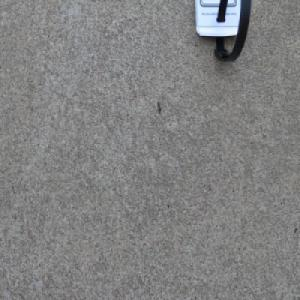LuggageTag: (192, 0, 252, 65)
